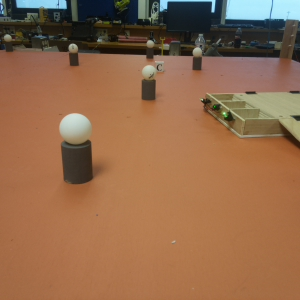blockC: (153, 60, 166, 71)
corner: (282, 18, 298, 60)
obstacle: (59, 110, 95, 185), (142, 65, 157, 100), (67, 43, 80, 66), (191, 48, 203, 72), (4, 34, 14, 53), (146, 40, 154, 59)
side: (198, 91, 267, 139)
